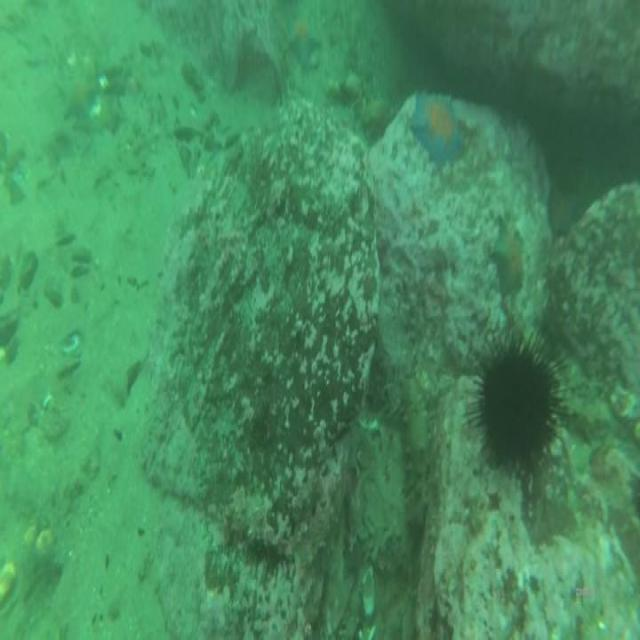echinus: (486, 344, 556, 471)
holothurian: (407, 405, 432, 526), (561, 386, 610, 438)
starfish: (412, 92, 464, 160), (492, 212, 524, 296), (288, 14, 322, 63)
